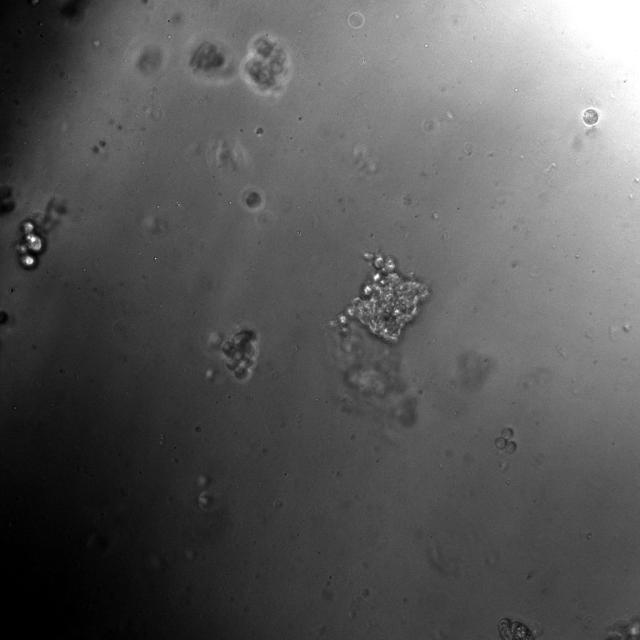organoid: (331, 252, 430, 343), (16, 195, 68, 269), (240, 33, 292, 96), (216, 326, 259, 382), (189, 41, 224, 77), (239, 185, 265, 213), (498, 618, 532, 639), (494, 428, 516, 454), (582, 108, 599, 126)
